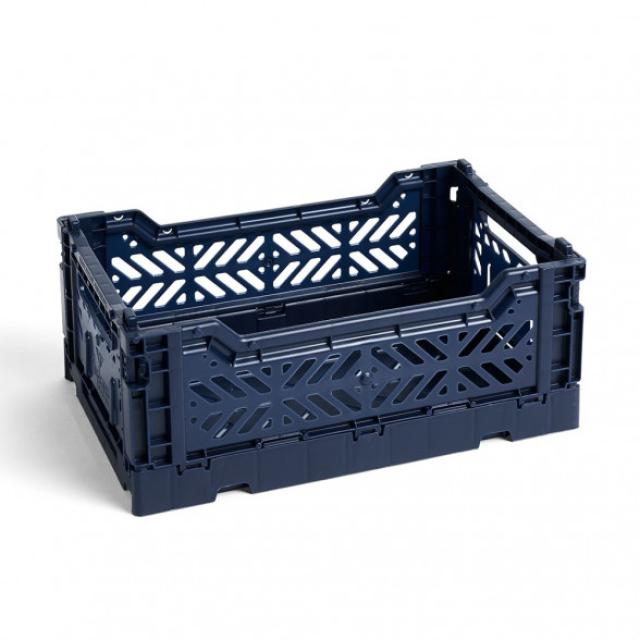basket: (43, 144, 614, 524)
